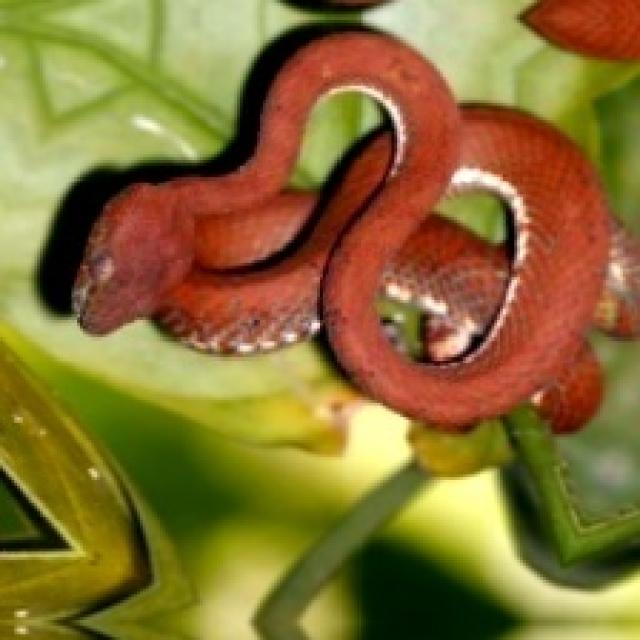philippine pitviper: (43, 26, 609, 429)
